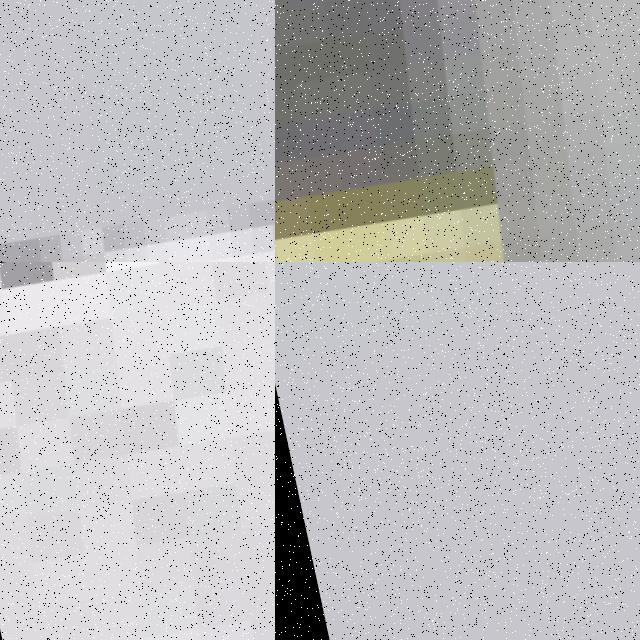0: (0, 0, 275, 262)
drone: (0, 262, 275, 640), (275, 0, 640, 262)
